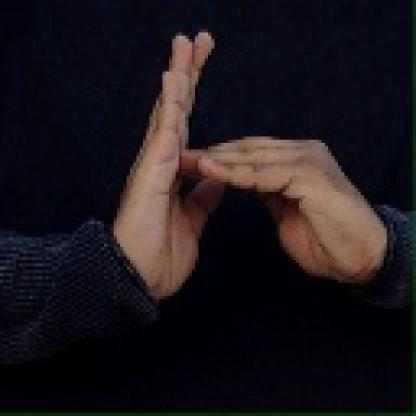Z: (120, 23, 385, 274)
